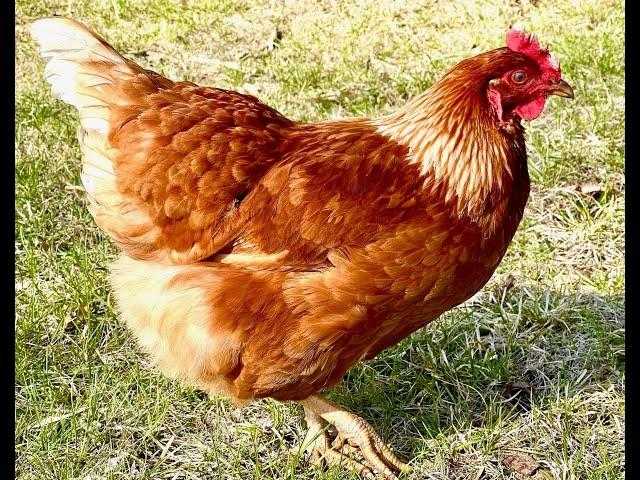Chicken: (31, 18, 576, 480)
